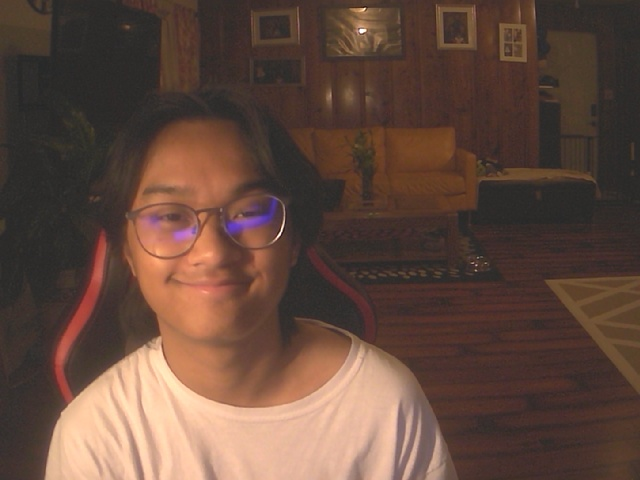happy: (95, 86, 327, 348)
